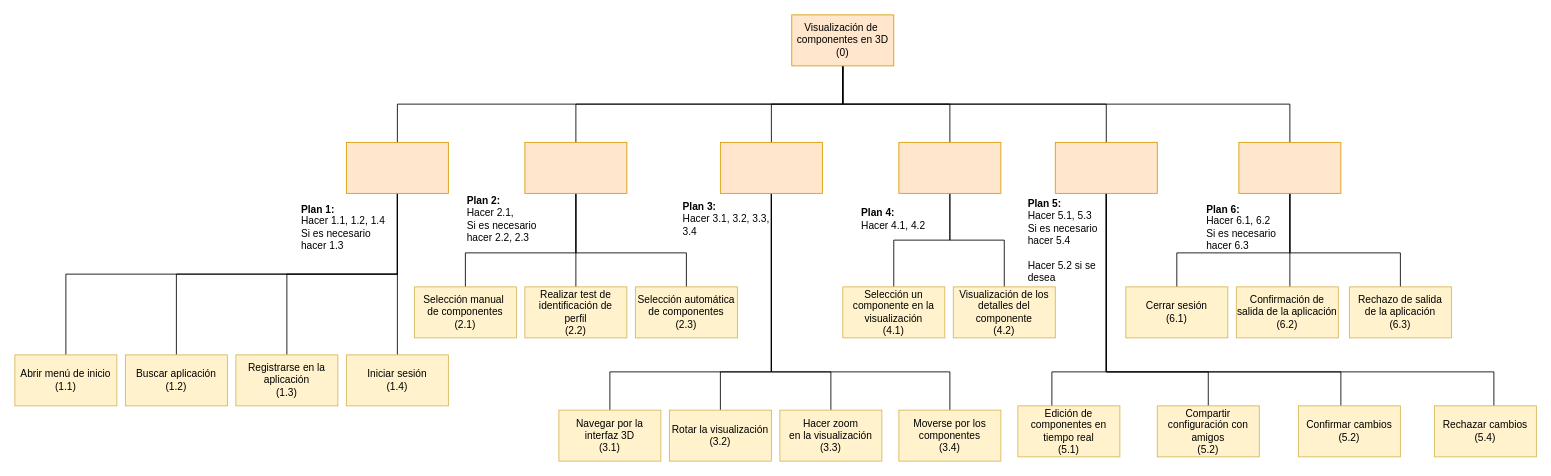
Image size: 1551x476. Some labels were removed from this diagram. Here are the shapes that lost their labels. From the top down, the centre of each, then its label:
At point (397, 167): "Iniciar la aplicación (1)".
At point (575, 167): "Selección de componentes (2)".
At point (771, 167): "Explorar la configuración 3D (3)".
At point (949, 167): "Visualizar componentes individuales (4)".
At point (1105, 167): "Interactuar con la configuración en tiempo real (5)".
At point (1289, 167): "Salir de la aplicación (6)".
